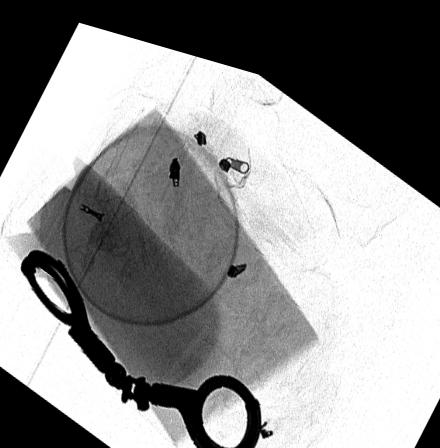HandCuffs: (18, 247, 260, 448)
